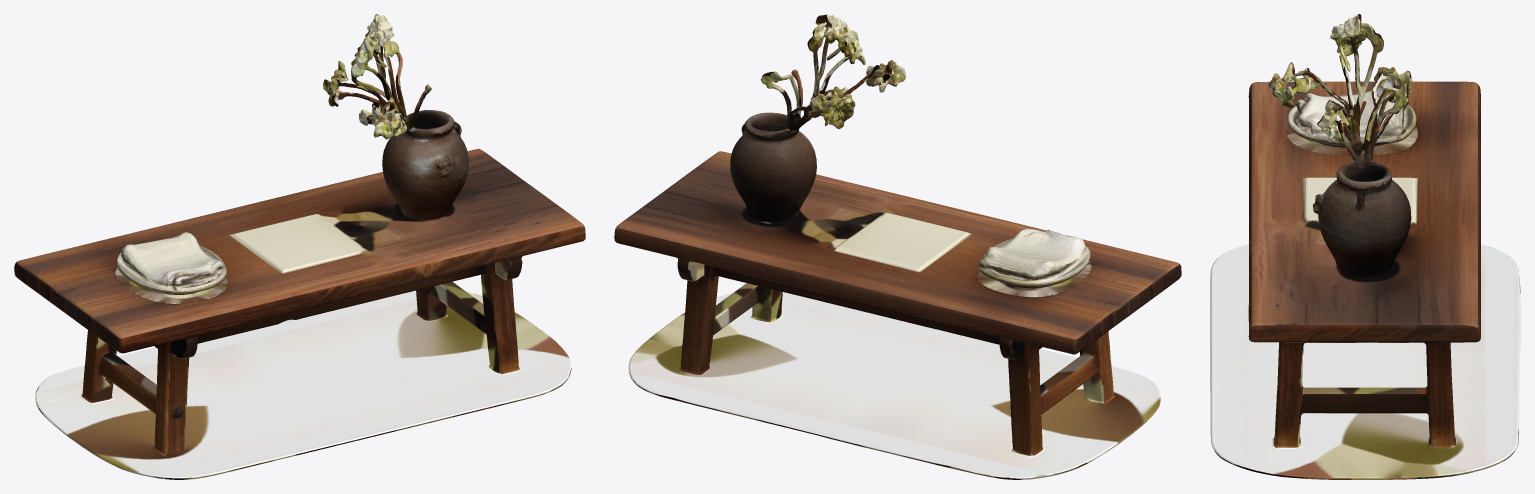
File: traveler_env_coast_ojatara_funeral_offering_00001_.glb
3 views of the same model, side by side, from view 1: azimuth 30°, elevation 25°; view 2: azimuth 150°, elevation 25°; view 3: azimuth 270°, elevation 25° (orthographic). The views are drawn at different scales.
Visible parts, largest first — view 1: temp_mesh.ply; view 2: temp_mesh.ply; view 3: temp_mesh.ply.
Boxes of the visible parts, x1,y1,x2,y2 form: temp_mesh.ply: (14, 14, 585, 479); temp_mesh.ply: (614, 14, 1181, 479); temp_mesh.ply: (1210, 14, 1520, 479).
Size of the model in its own units: 1.97 by 1.44 by 1.05.
Materials: 1 (1 with a texture image).
